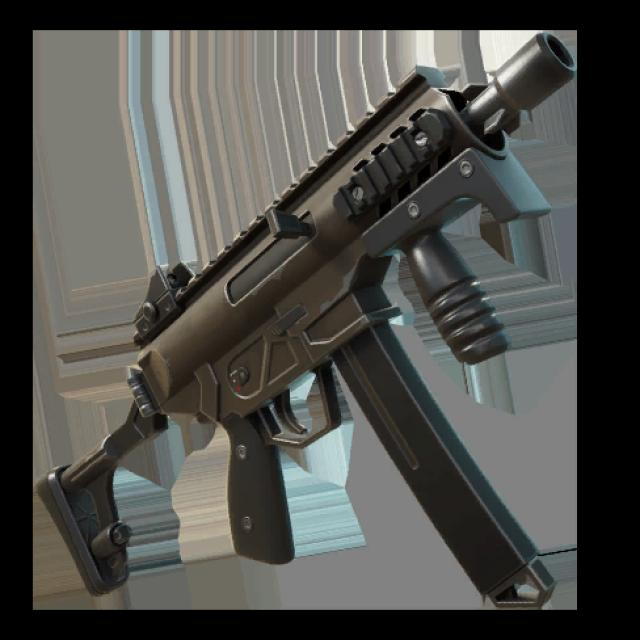Weapon: (35, 34, 576, 607)
